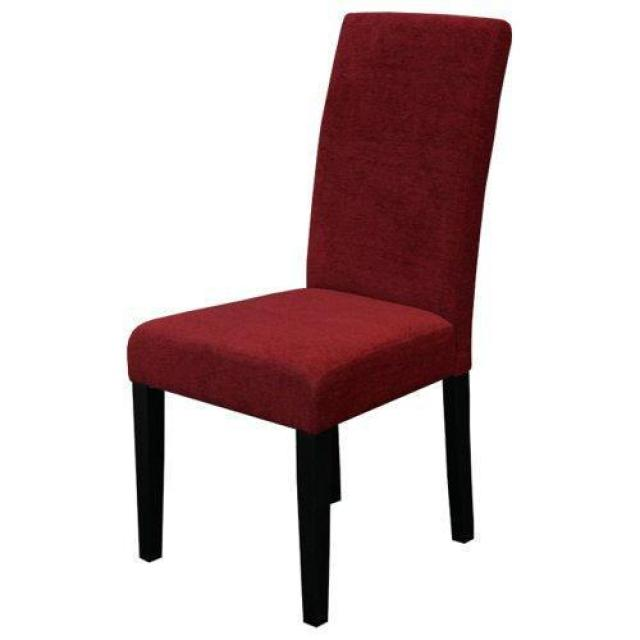chair: (125, 12, 515, 628)
